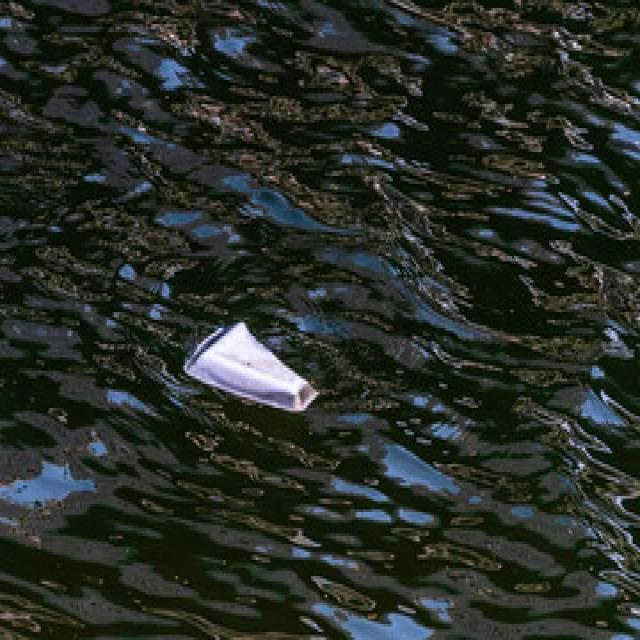Trash: (184, 312, 317, 416)
